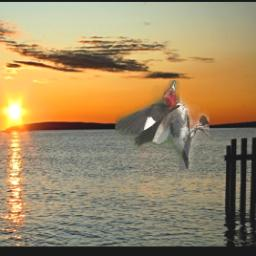Woodpecker: (114, 81, 208, 170)
